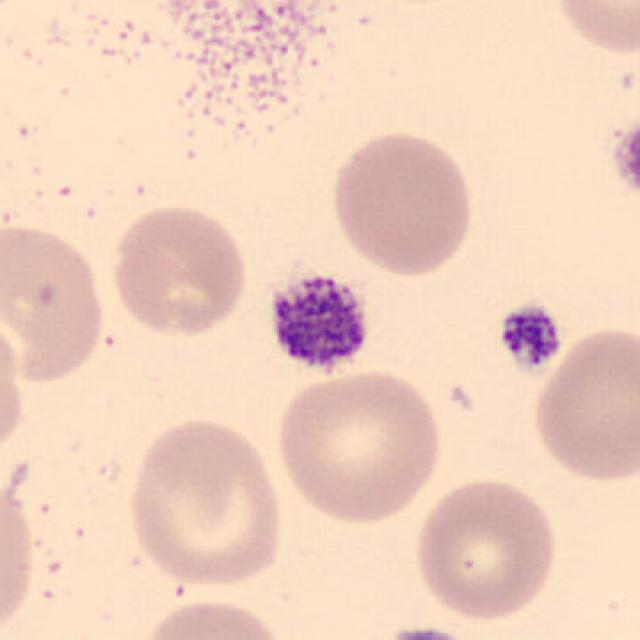Platelets: (262, 264, 374, 381), (494, 300, 564, 374), (606, 113, 640, 201)
RBC: (121, 412, 288, 592), (270, 365, 448, 527), (326, 127, 478, 279), (409, 472, 562, 622), (107, 200, 250, 340), (0, 219, 110, 388), (528, 321, 638, 486), (0, 455, 41, 640), (134, 594, 292, 640), (548, 0, 638, 58), (0, 312, 30, 464)
